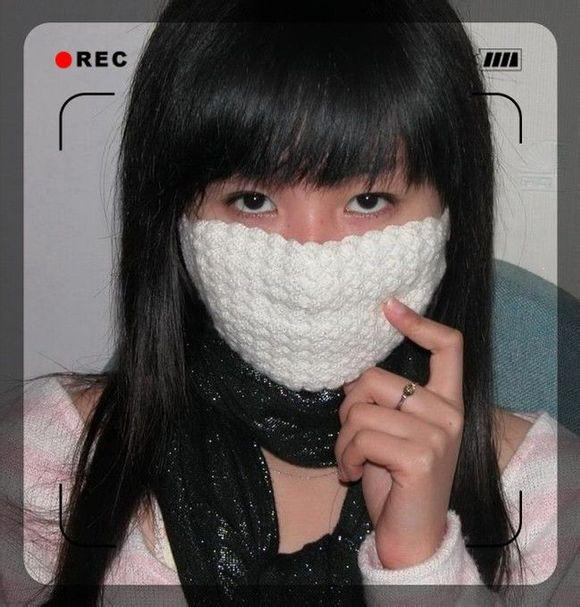OK: (197, 153, 437, 392)
